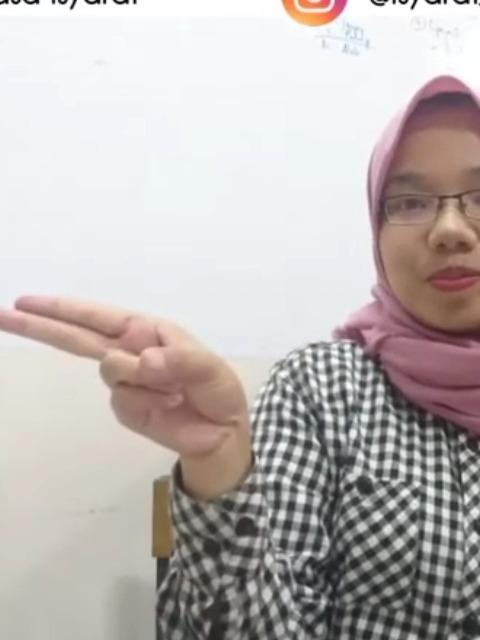H: (1, 283, 243, 465)
